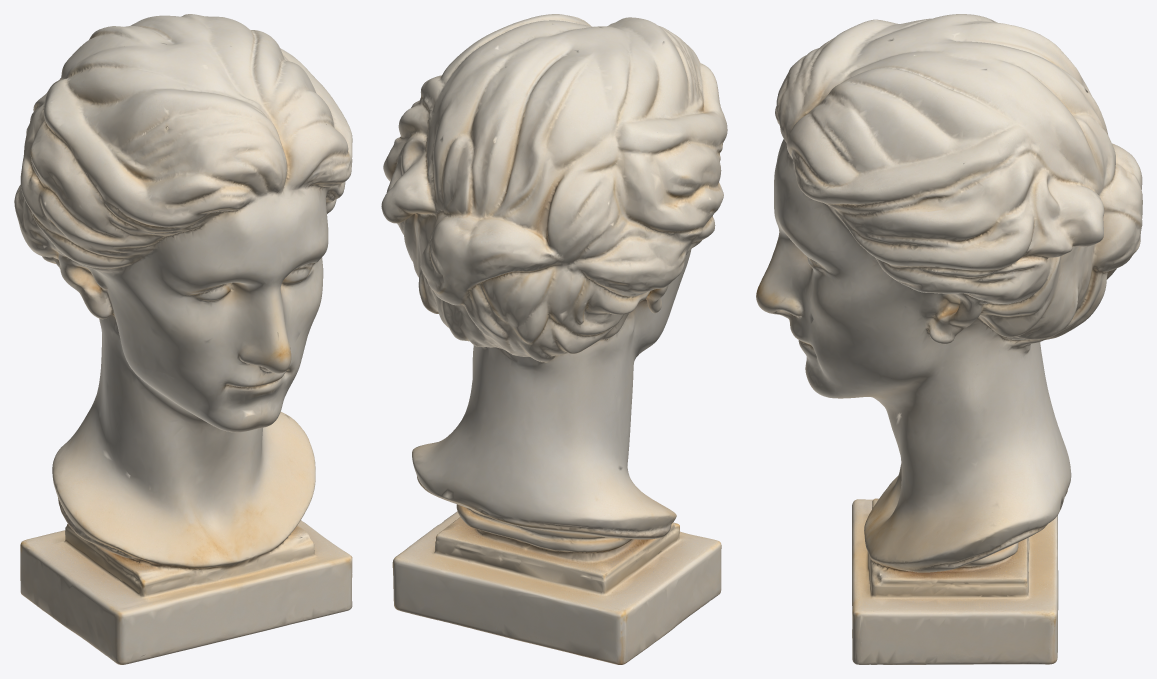
File: Meshy_AI_Classical_marble_scul_0808115614_texture.glb
3 views of the same model, side by side, from view 1: azimuth 30°, elevation 25°; view 2: azimuth 150°, elevation 25°; view 3: azimuth 270°, elevation 25° (orthographic).
Bounding box in the file's own units: 1.1 × 2 × 1.24.
1 material, 1 textured.
